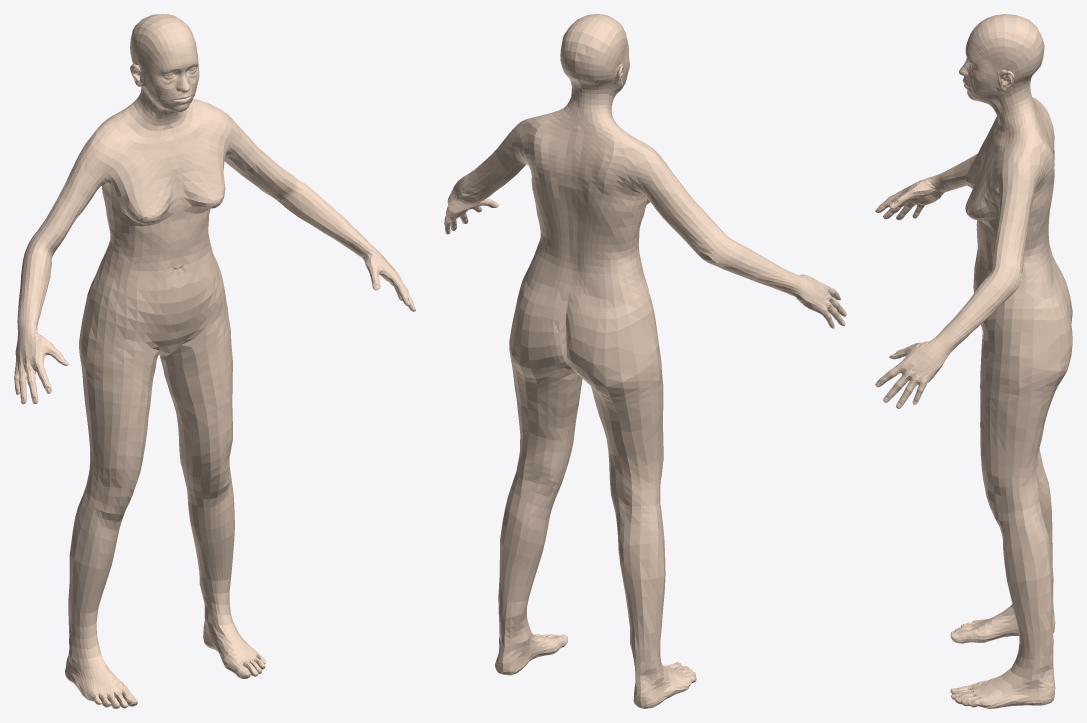
File: female-older-average-toned.glb
3 views of the same model, side by side, from view 1: azimuth 30°, elevation 25°; view 2: azimuth 150°, elevation 25°; view 3: azimuth 270°, elevation 25° (orthographic).
Visible parts, largest first — view 1: world; view 2: world; view 3: world.
Part boxes in pixels (x1,y1,x2,y2): world: [14, 14, 415, 708]; world: [444, 14, 846, 708]; world: [875, 14, 1072, 708].
Size of the model in its own units: 1.13 by 1.8 by 0.494.
